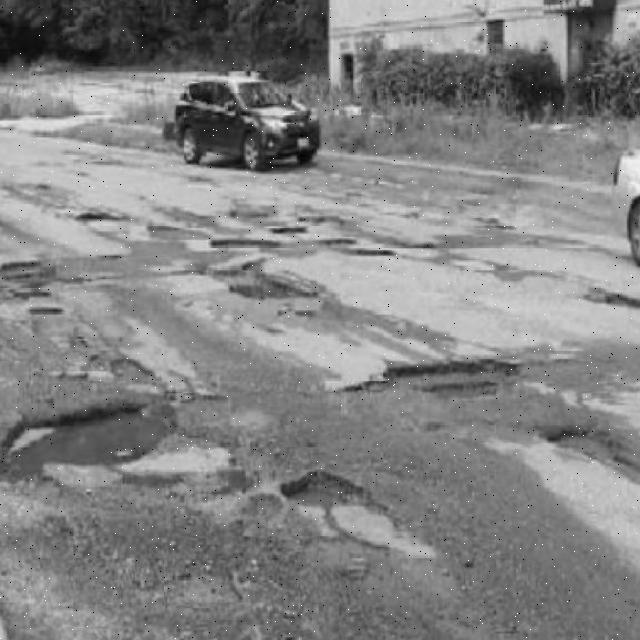pothole: (0, 404, 179, 484), (331, 364, 535, 399), (539, 427, 640, 487), (280, 472, 379, 513)
